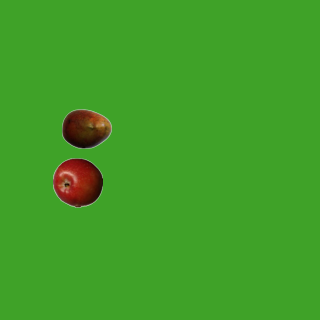Apple Braeburn: (52, 157, 102, 207)
Mango Red: (61, 103, 111, 153)
